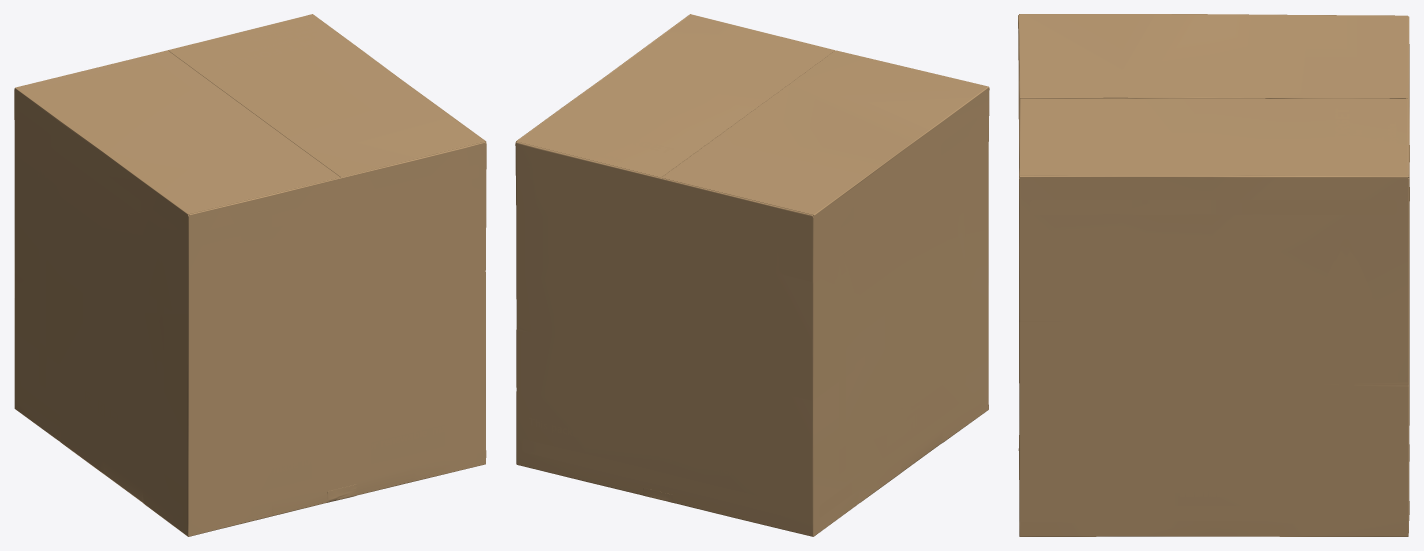
File: box_corrugated_white_b10.glb
The picture shows the model from 3 angles, left to right: view 1: azimuth 30°, elevation 25°; view 2: azimuth 150°, elevation 25°; view 3: azimuth 270°, elevation 25°; orthographic projection. The views are drawn at different scales.
Size of the model in its own units: 0.4033 by 0.4168 by 0.4094.
